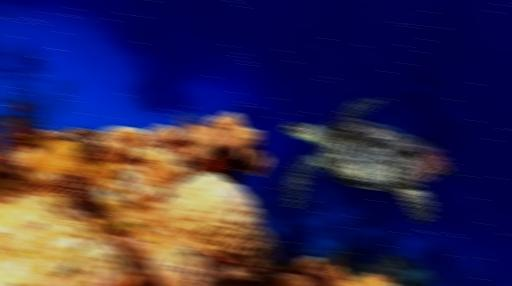Fish: (282, 98, 450, 223)
